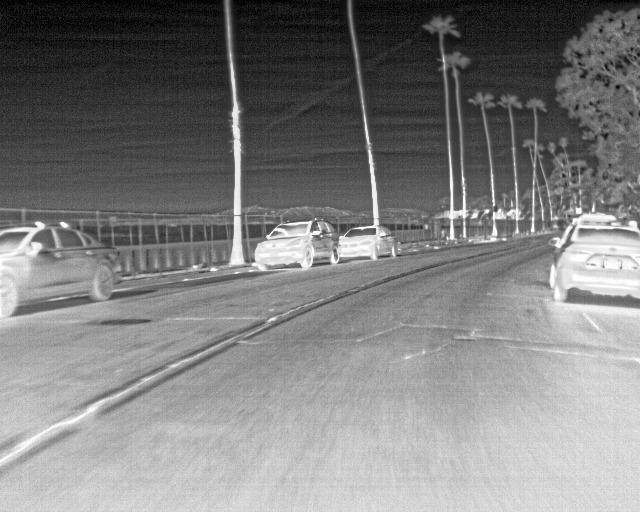car: (0, 222, 123, 318), (548, 221, 639, 304), (252, 219, 339, 273), (337, 226, 398, 259), (571, 213, 617, 227)
